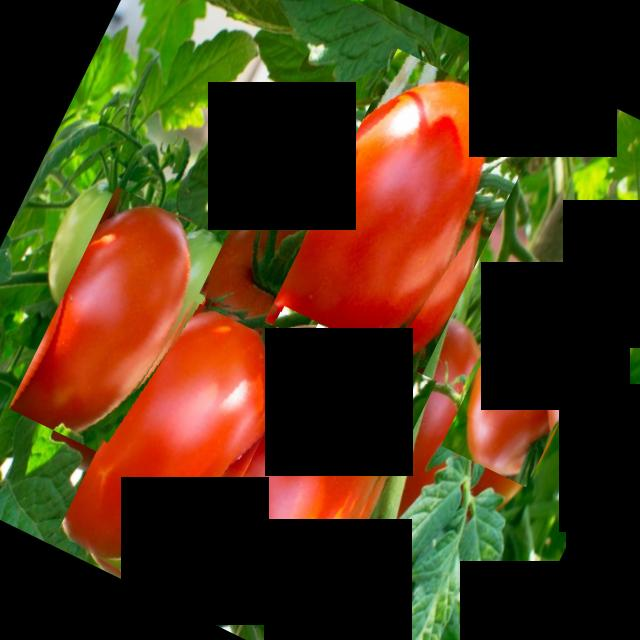tomatoes: (264, 48, 546, 394), (51, 291, 316, 612), (198, 324, 436, 626), (8, 186, 230, 464), (440, 307, 593, 487), (196, 200, 304, 326)
